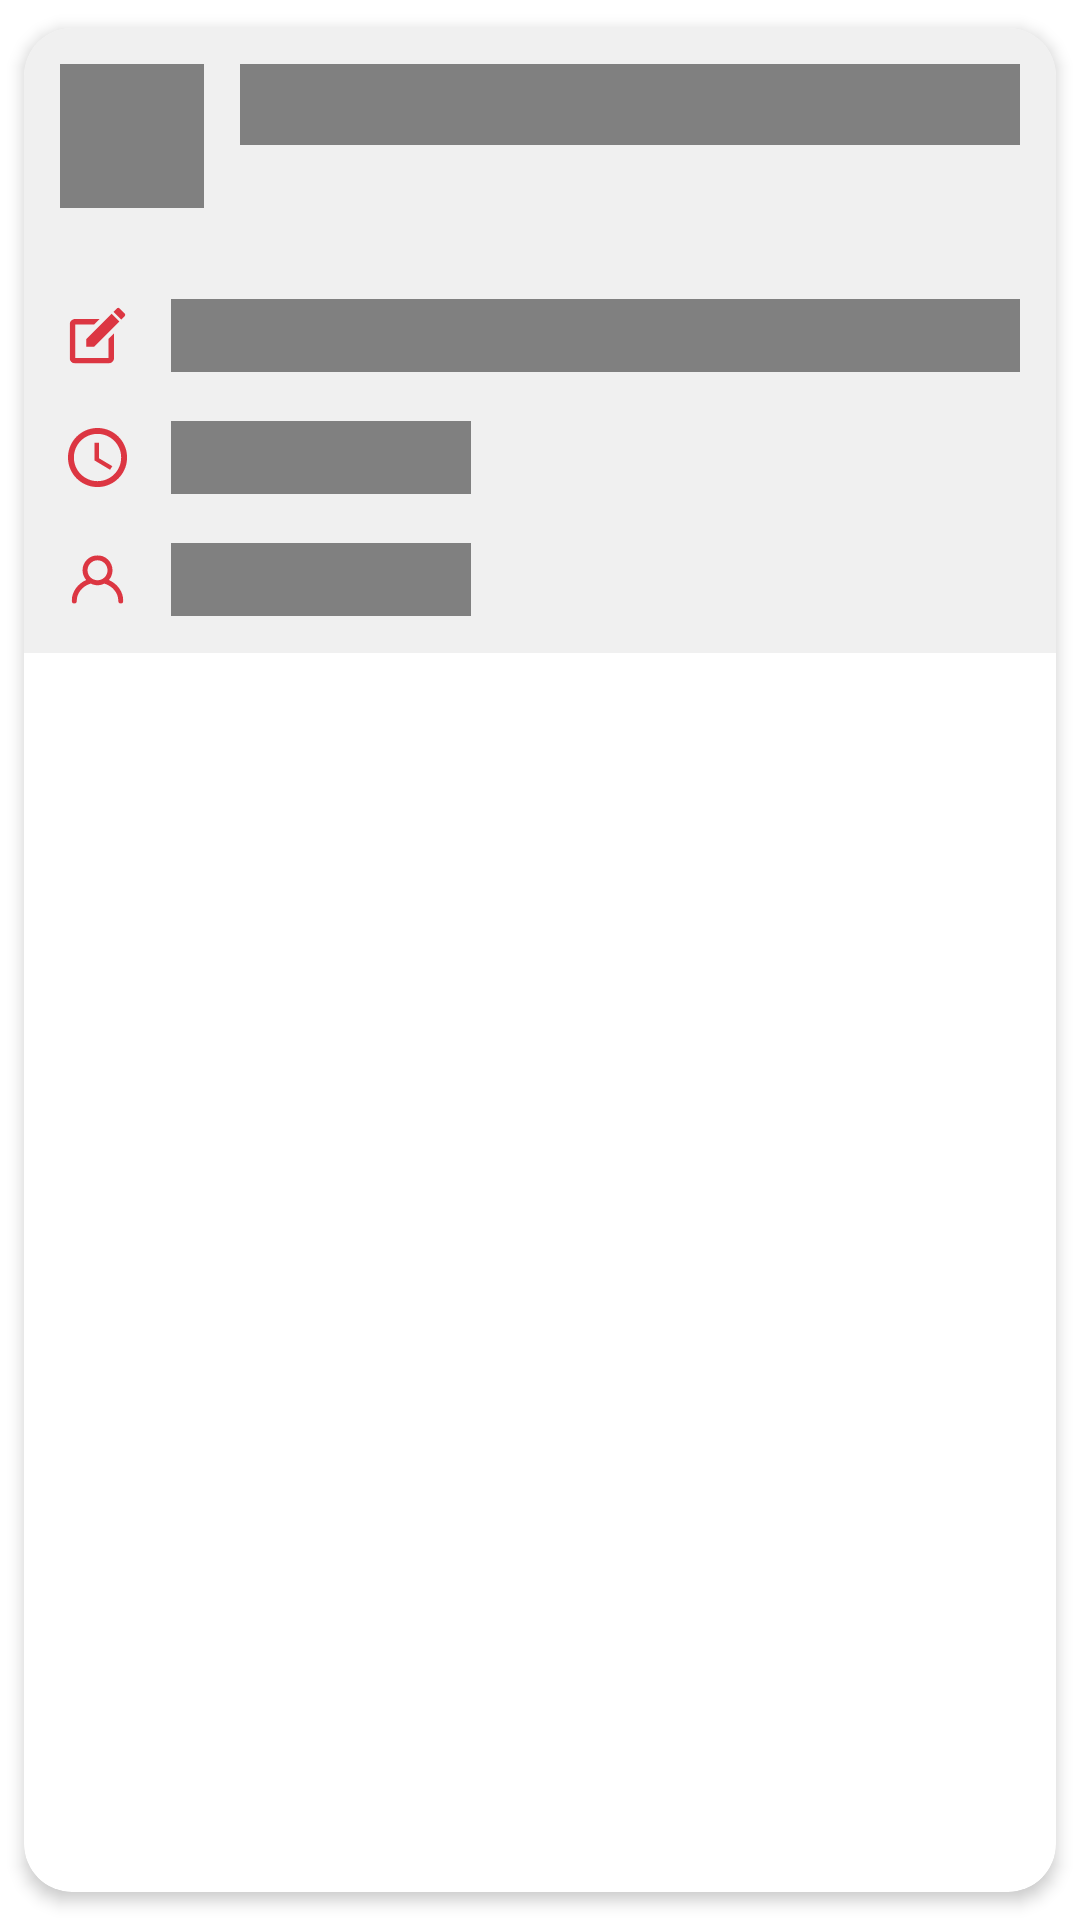

Icon bounding boxes for this 1080px x 1920px phone screenshot, format [x1=x1, y1=y1, x2=x2, y2=y2]:
audience: [x1=72, y1=555, x2=123, y2=604]
description: [x1=70, y1=308, x2=125, y2=364]
time: [x1=68, y1=428, x2=127, y2=487]
